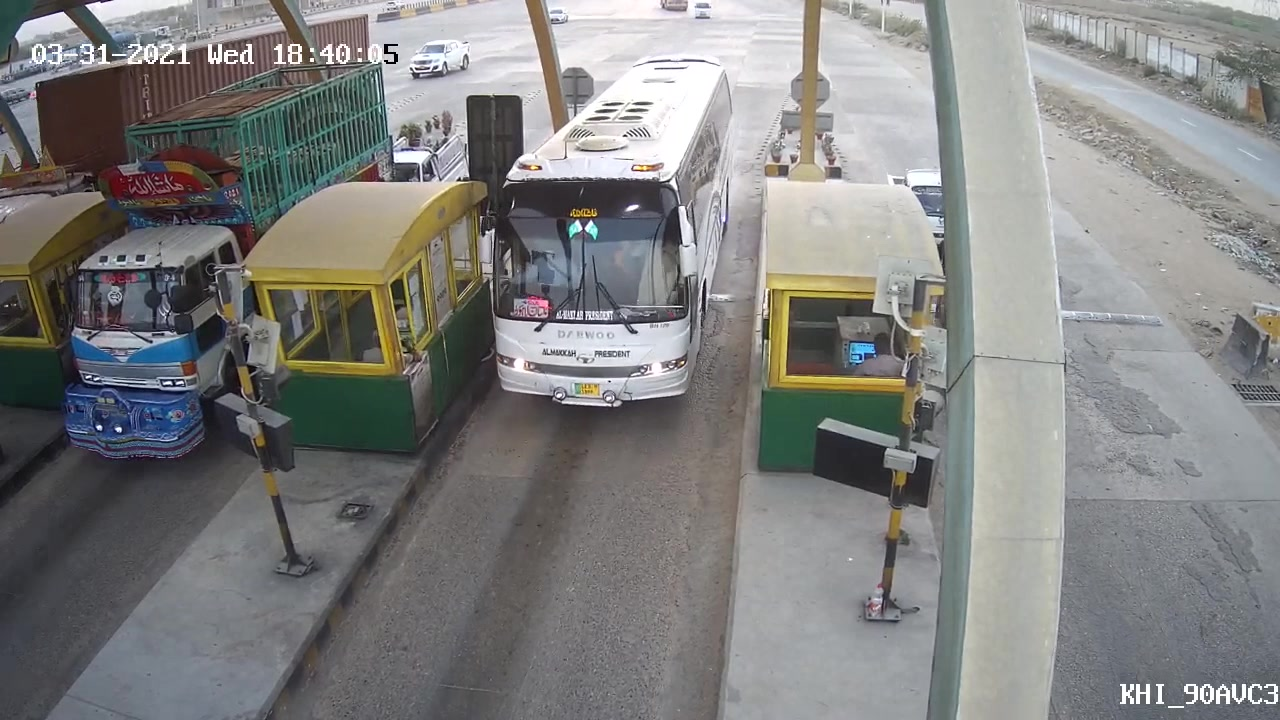F4: (470, 51, 734, 415)
